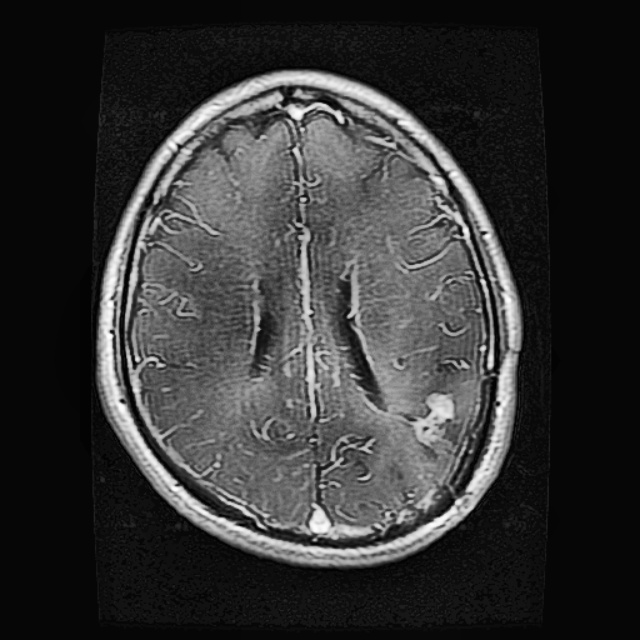Meningioma: (399, 385, 459, 457)
